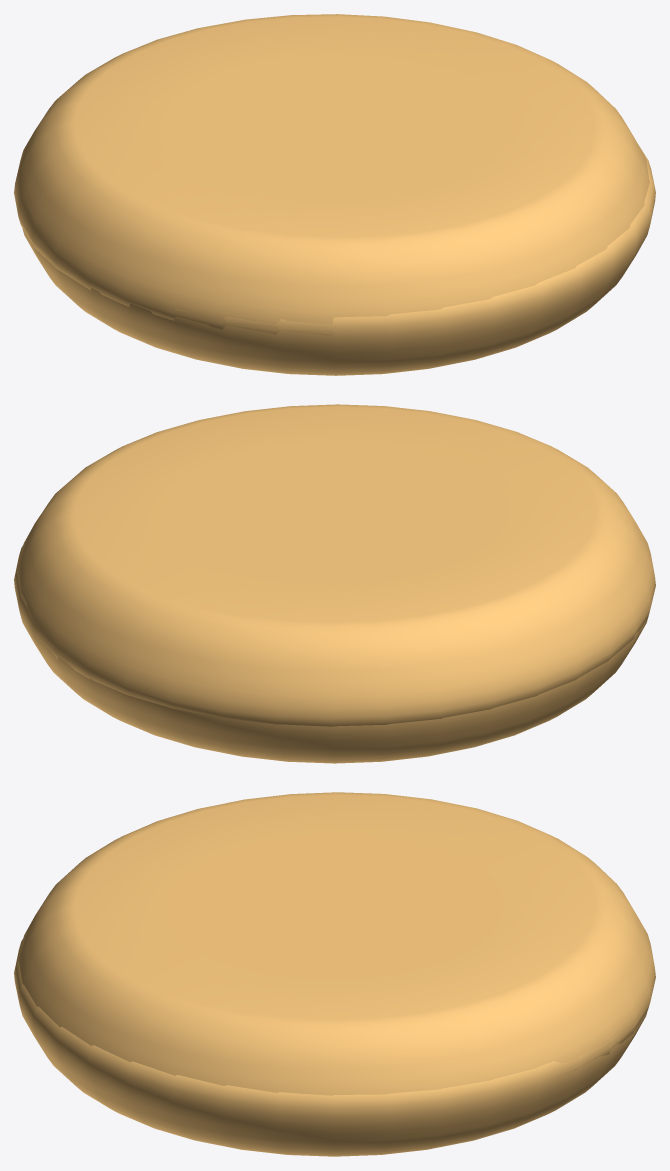
The model's file is panAbajo.glb.
3 views of the same model, one above another, from view 1: azimuth 30°, elevation 25°; view 2: azimuth 150°, elevation 25°; view 3: azimuth 270°, elevation 25° (orthographic).
Parts seen in each view (by area): view 1: Bottom_bun, Bottom_bun_BunColor_0.001; view 2: Bottom_bun, Bottom_bun_BunColor_0.001; view 3: Bottom_bun, Bottom_bun_BunColor_0.001.
Part boxes in pixels (x1,y1,x2,y2): Bottom_bun: (14, 14, 649, 335); Bottom_bun_BunColor_0.001: (22, 144, 655, 375); Bottom_bun: (15, 404, 655, 726); Bottom_bun_BunColor_0.001: (14, 546, 649, 763); Bottom_bun: (18, 792, 655, 1100); Bottom_bun_BunColor_0.001: (14, 938, 647, 1156).
Bounding box in the file's own units: 117 × 27.92 × 117.
